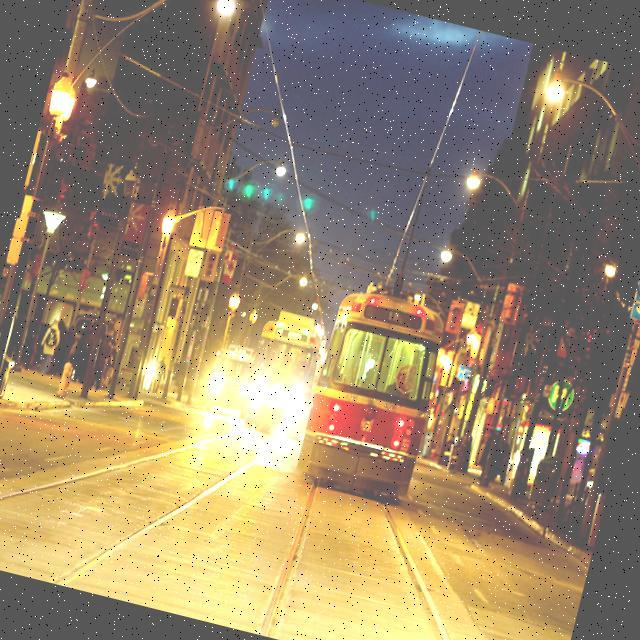fire_hydrant: (55, 358, 73, 398)
